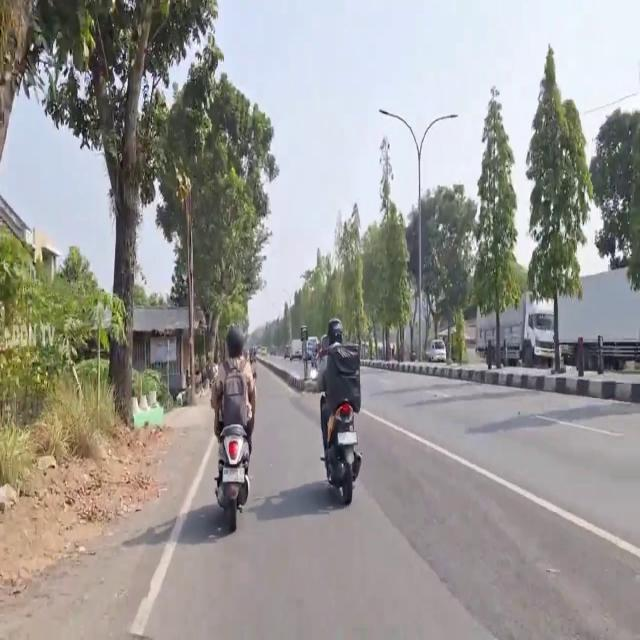WithHelmet: (209, 324, 257, 477), (316, 317, 362, 463)
